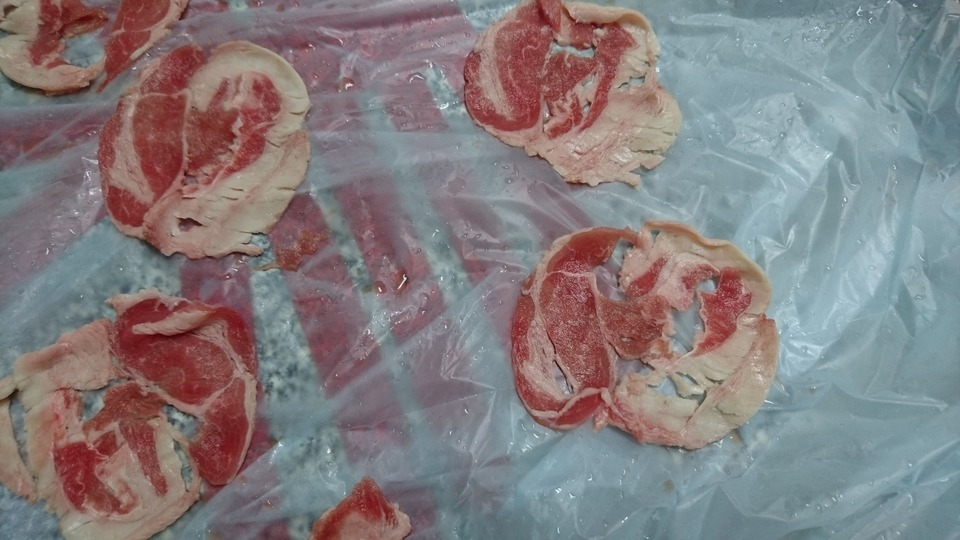restructured meat: (506, 221, 785, 453), (3, 288, 247, 540), (97, 42, 312, 260), (458, 1, 683, 194)
